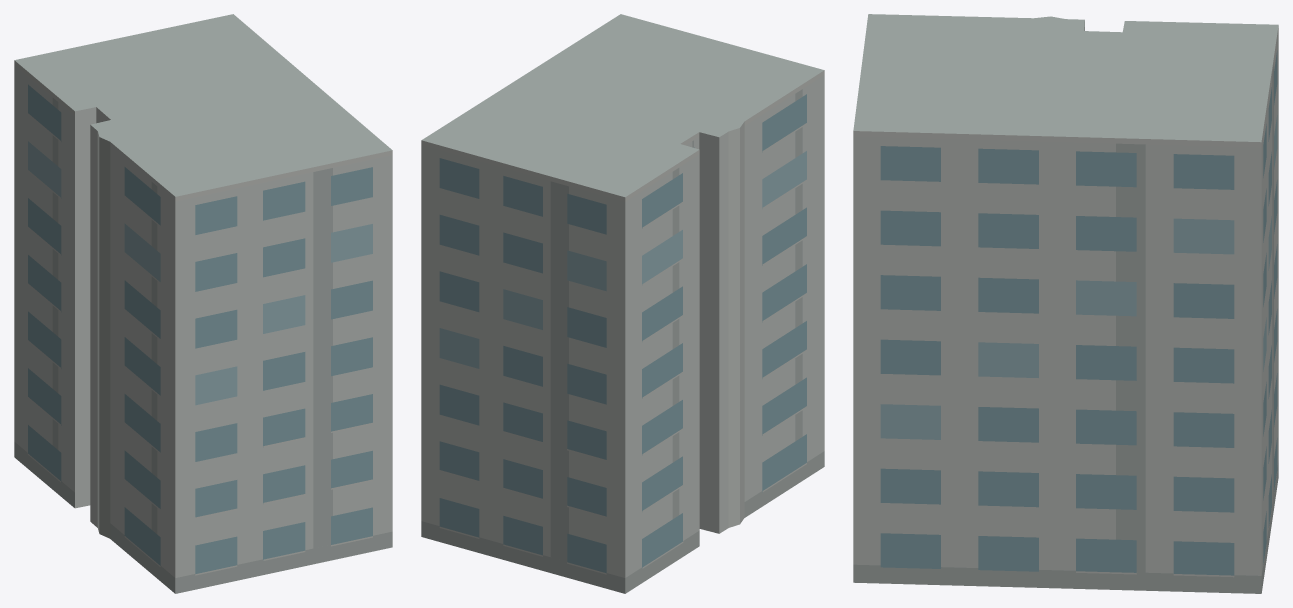
File: survey-upis-32903210.glb
3 renders of one model, left to right at view 1: azimuth 30°, elevation 25°; view 2: azimuth 150°, elevation 25°; view 3: azimuth 270°, elevation 25°, orthographic. The views are drawn at different scales.
Visible parts, largest first — view 1: survey-upis-32903210.tmp; view 2: survey-upis-32903210.tmp; view 3: survey-upis-32903210.tmp.
Part boxes in pixels (x1,y1,x2,y2): survey-upis-32903210.tmp: [14, 14, 392, 593]; survey-upis-32903210.tmp: [421, 14, 824, 593]; survey-upis-32903210.tmp: [853, 14, 1278, 593].
Bounding box in the file's own units: 12.24 × 20.1 × 17.16.
